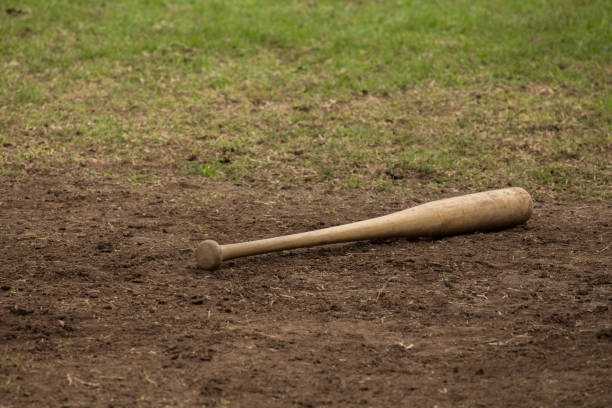bita: (199, 190, 532, 267)
